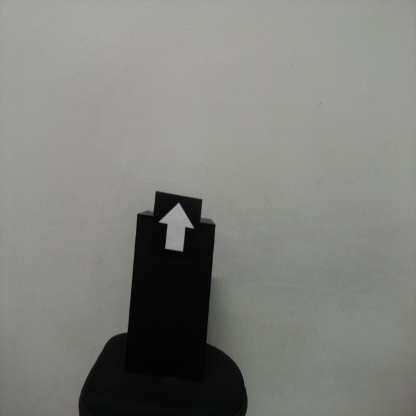id_1: (155, 192, 201, 269)
